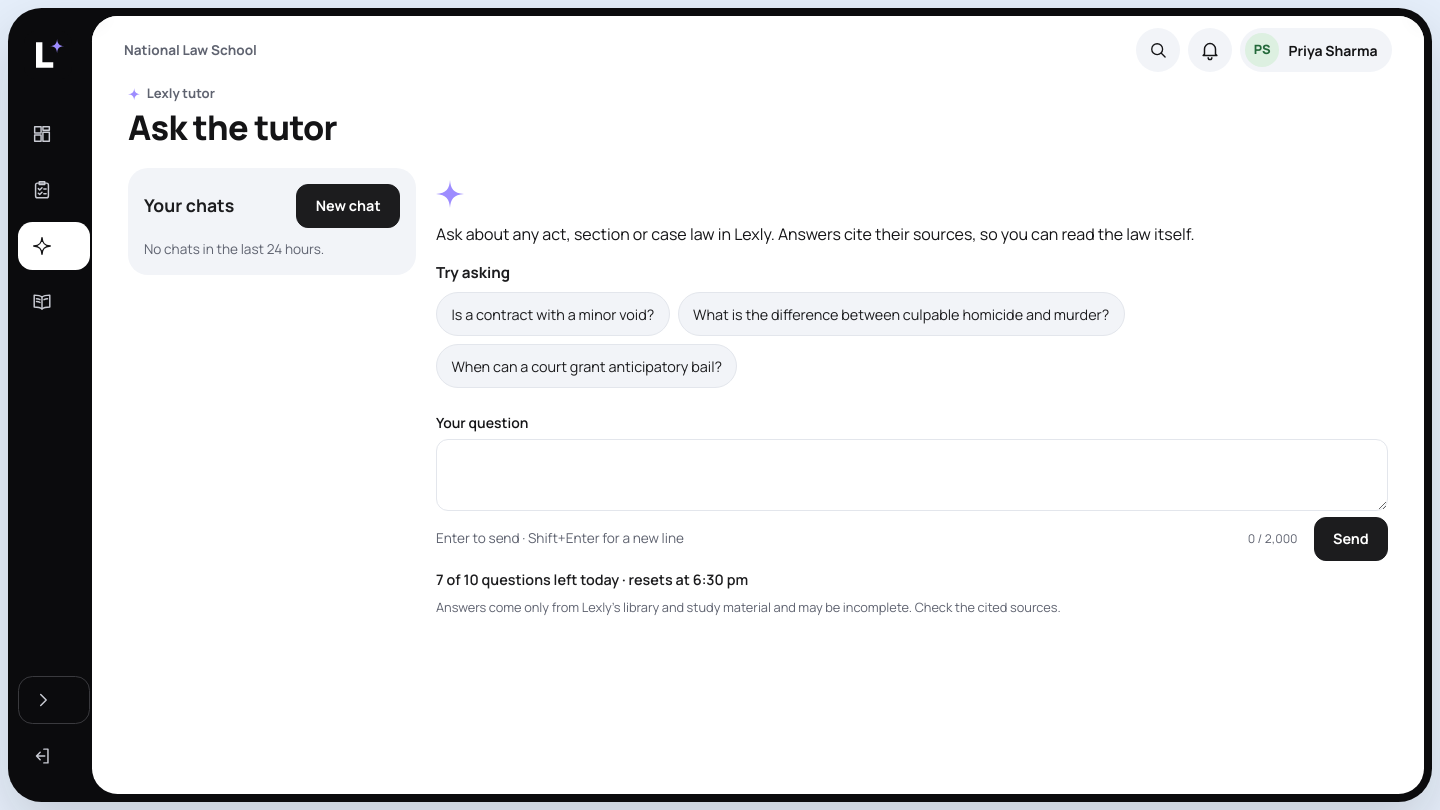
it: tutor (F5a.3) › after a lost connection, says the tutor may have answered and refreshes the chats
Expected: the text "7 of 10 questions left today · resets at 6:30 pm" is shown, [436,570,748,589]
Type "Is a contract with a minor void?" into the text box labelled "Your question" at (912, 475), box [436,439,1388,511]
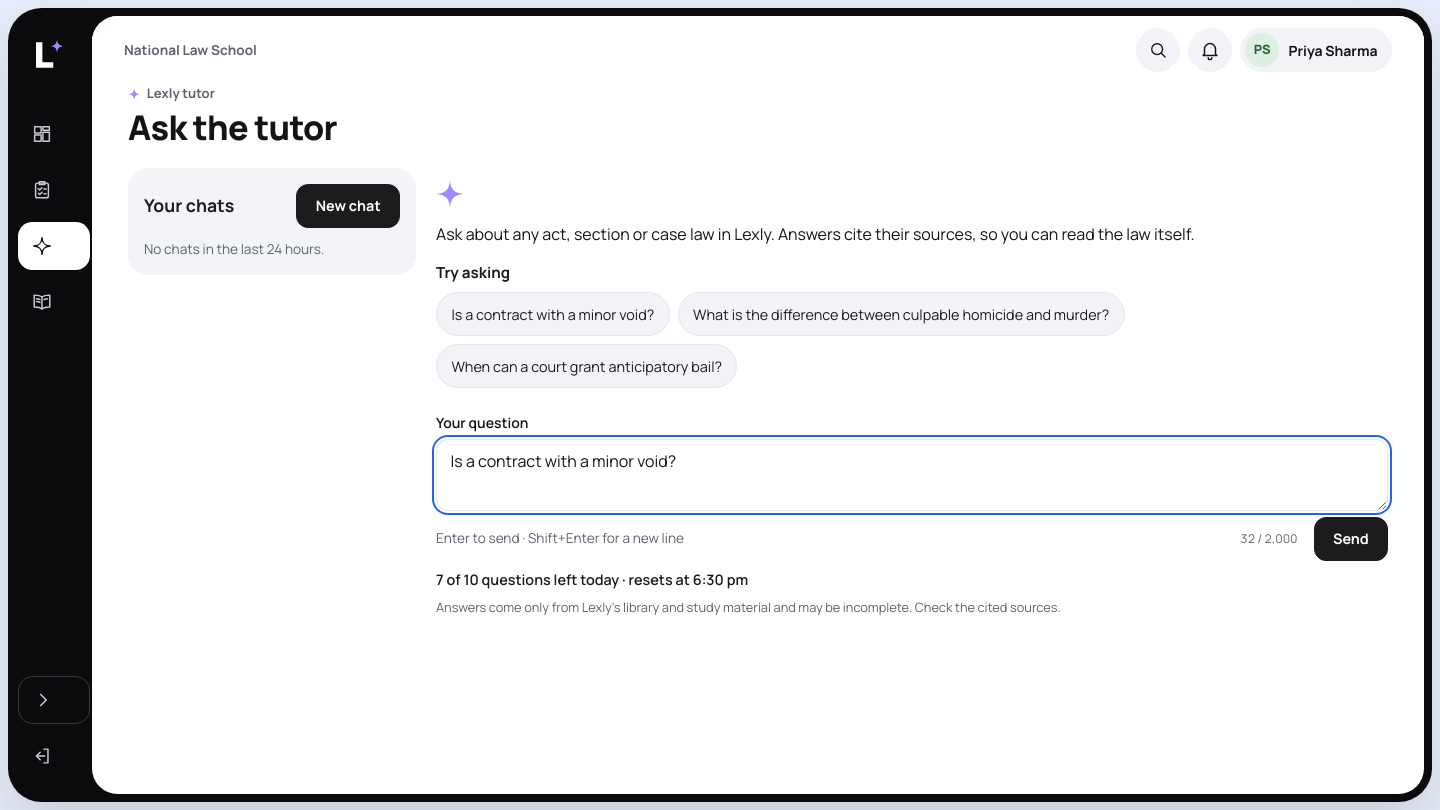
Press Enter
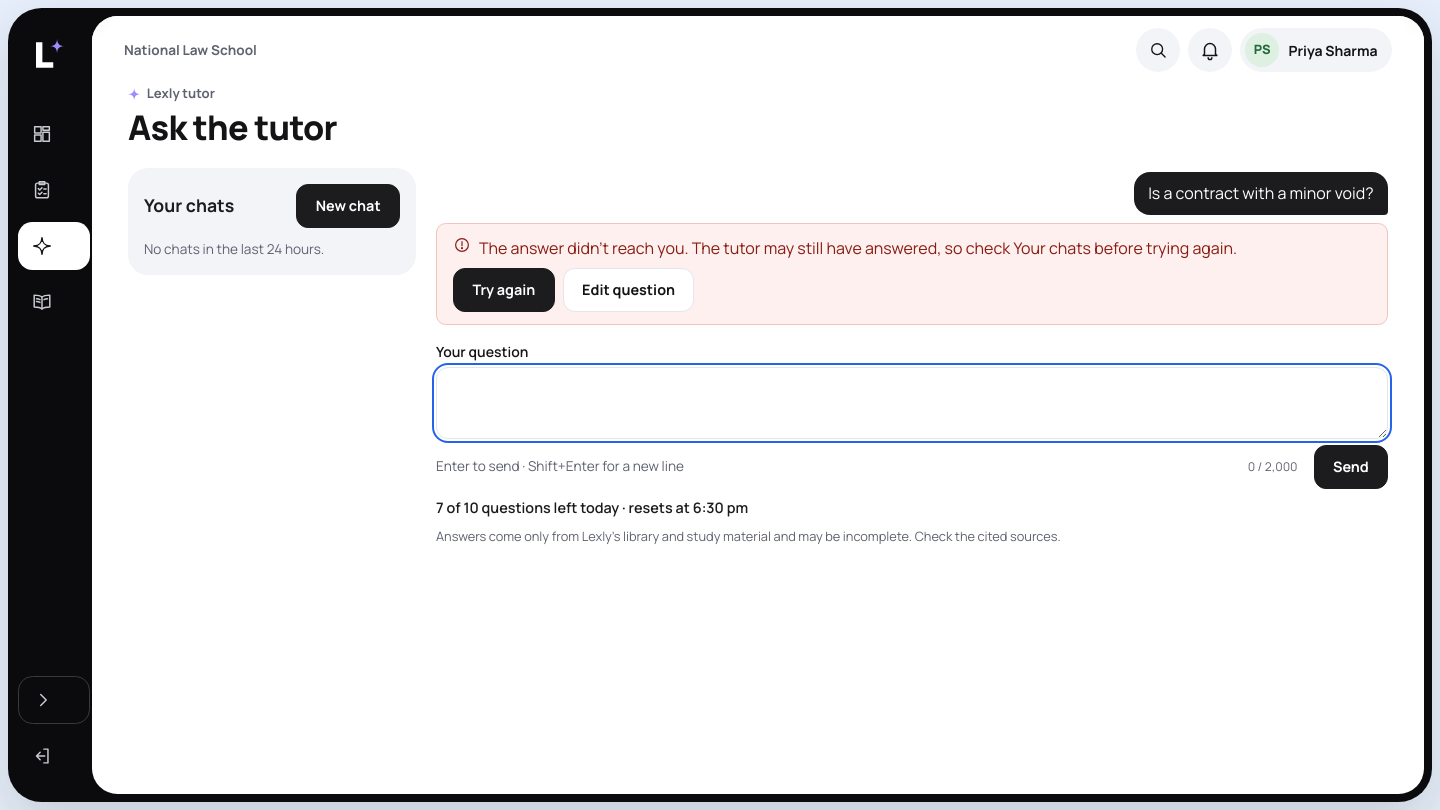
Expected: the message shows "The answer didn’t reach you. The tutor may still have answered, so check Your chats before trying again.", [479,237,1237,259]
